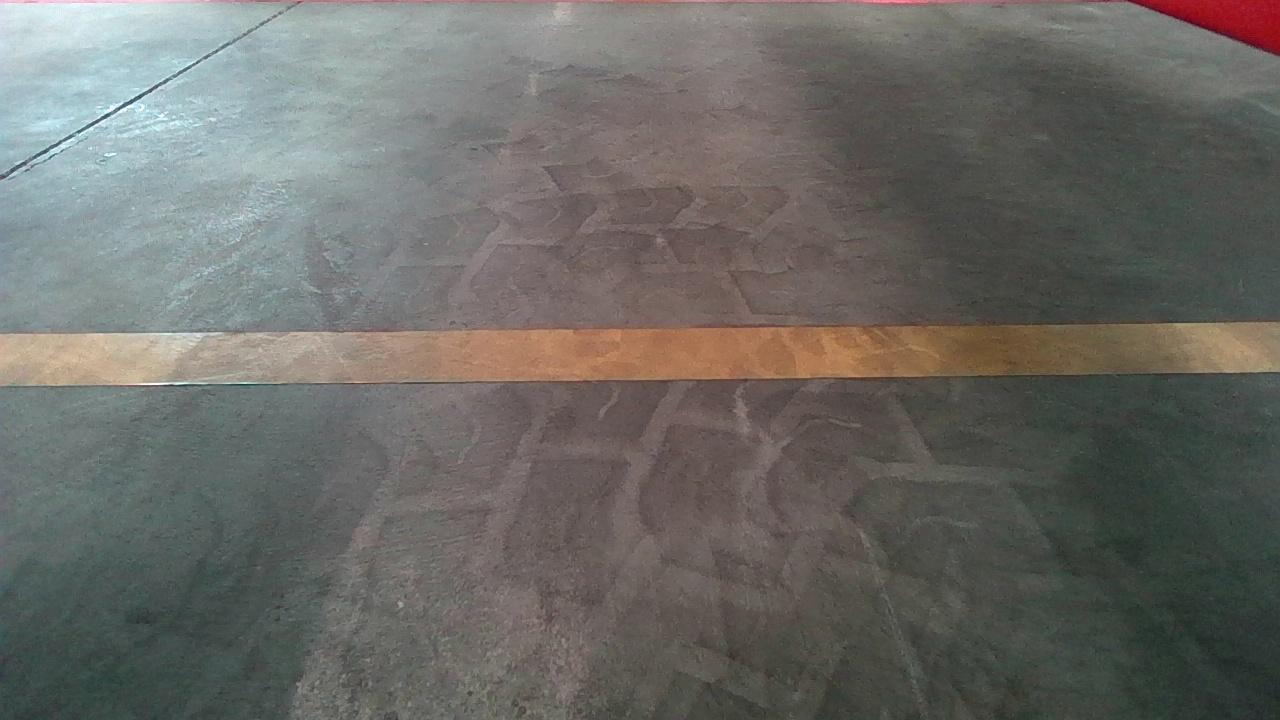yellow_line: (0, 317, 1271, 388)
